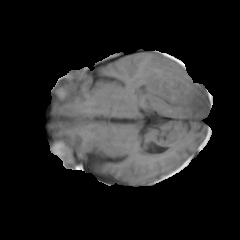glioma: (133, 54, 211, 117)
